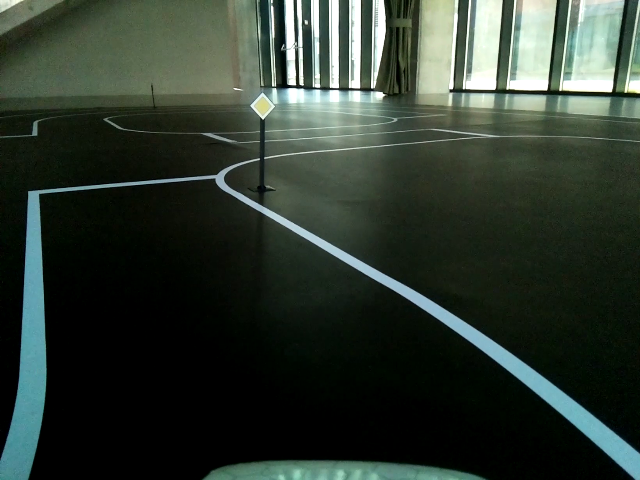priority: (250, 93, 277, 121)
